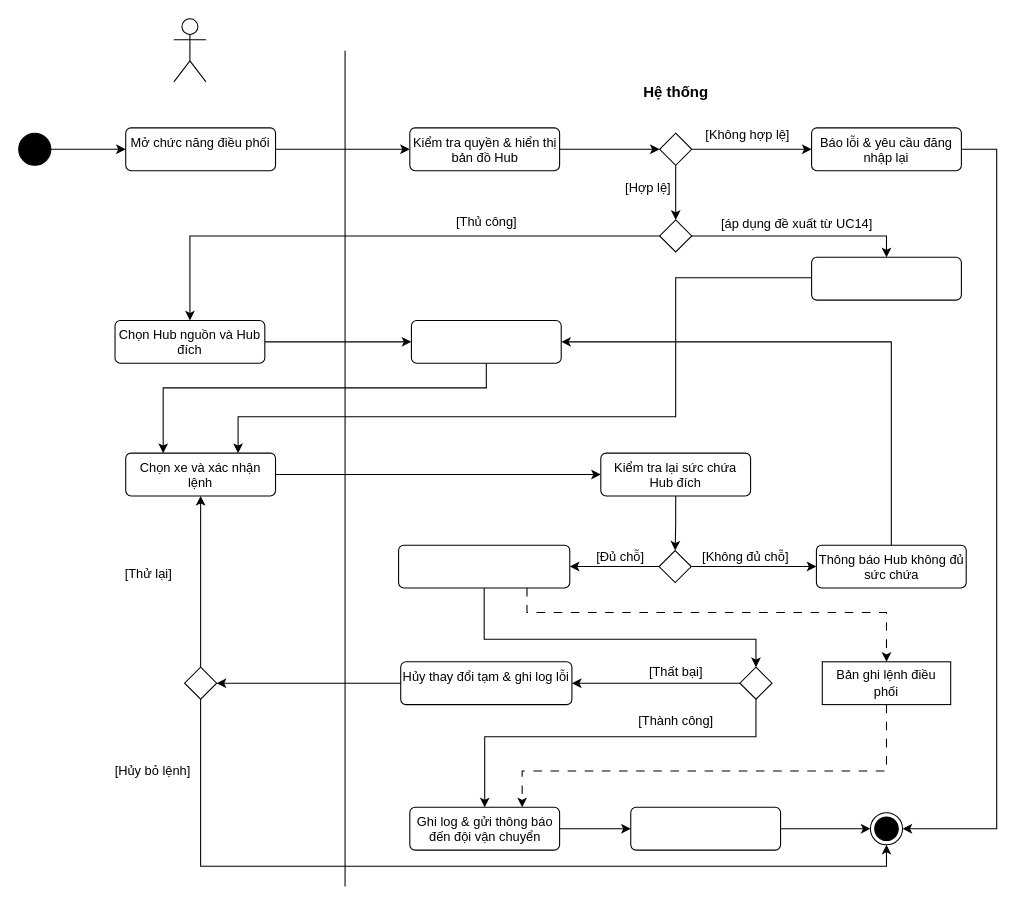
The diagram is 1024 pixels wide and 906 high, and some of its shapes have lost their labels. Each missing label, with the centre of its shape:
Hiển thị thông báo tạo lệnh thành công: the point at 705,828
Hiển thị xe (Hub nguồn) & chỗ trống (Hub đích): the point at 485,341
Khóa xe, tạo lệnh & cập nhật trạng thái xe và sức chứa: the point at 484,566
Tự động điền Hub & danh sách xe đề xuất: the point at 886,278
Đơn vị vận hành: the point at 189,50
